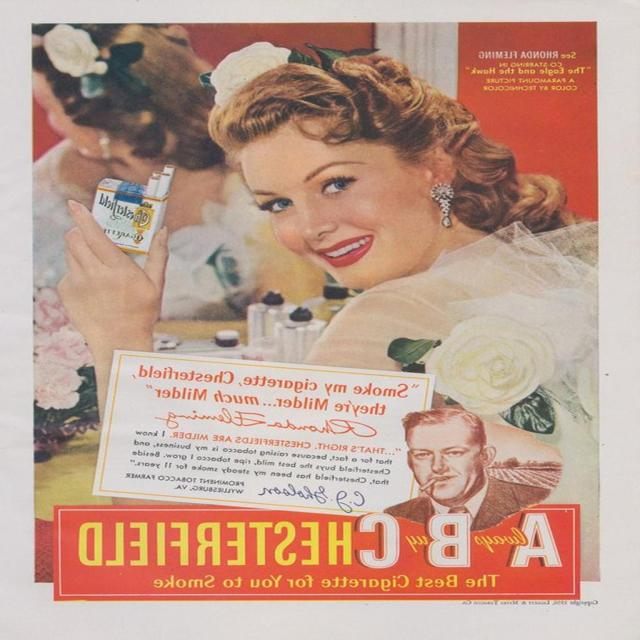smoking: (357, 428, 505, 524)
